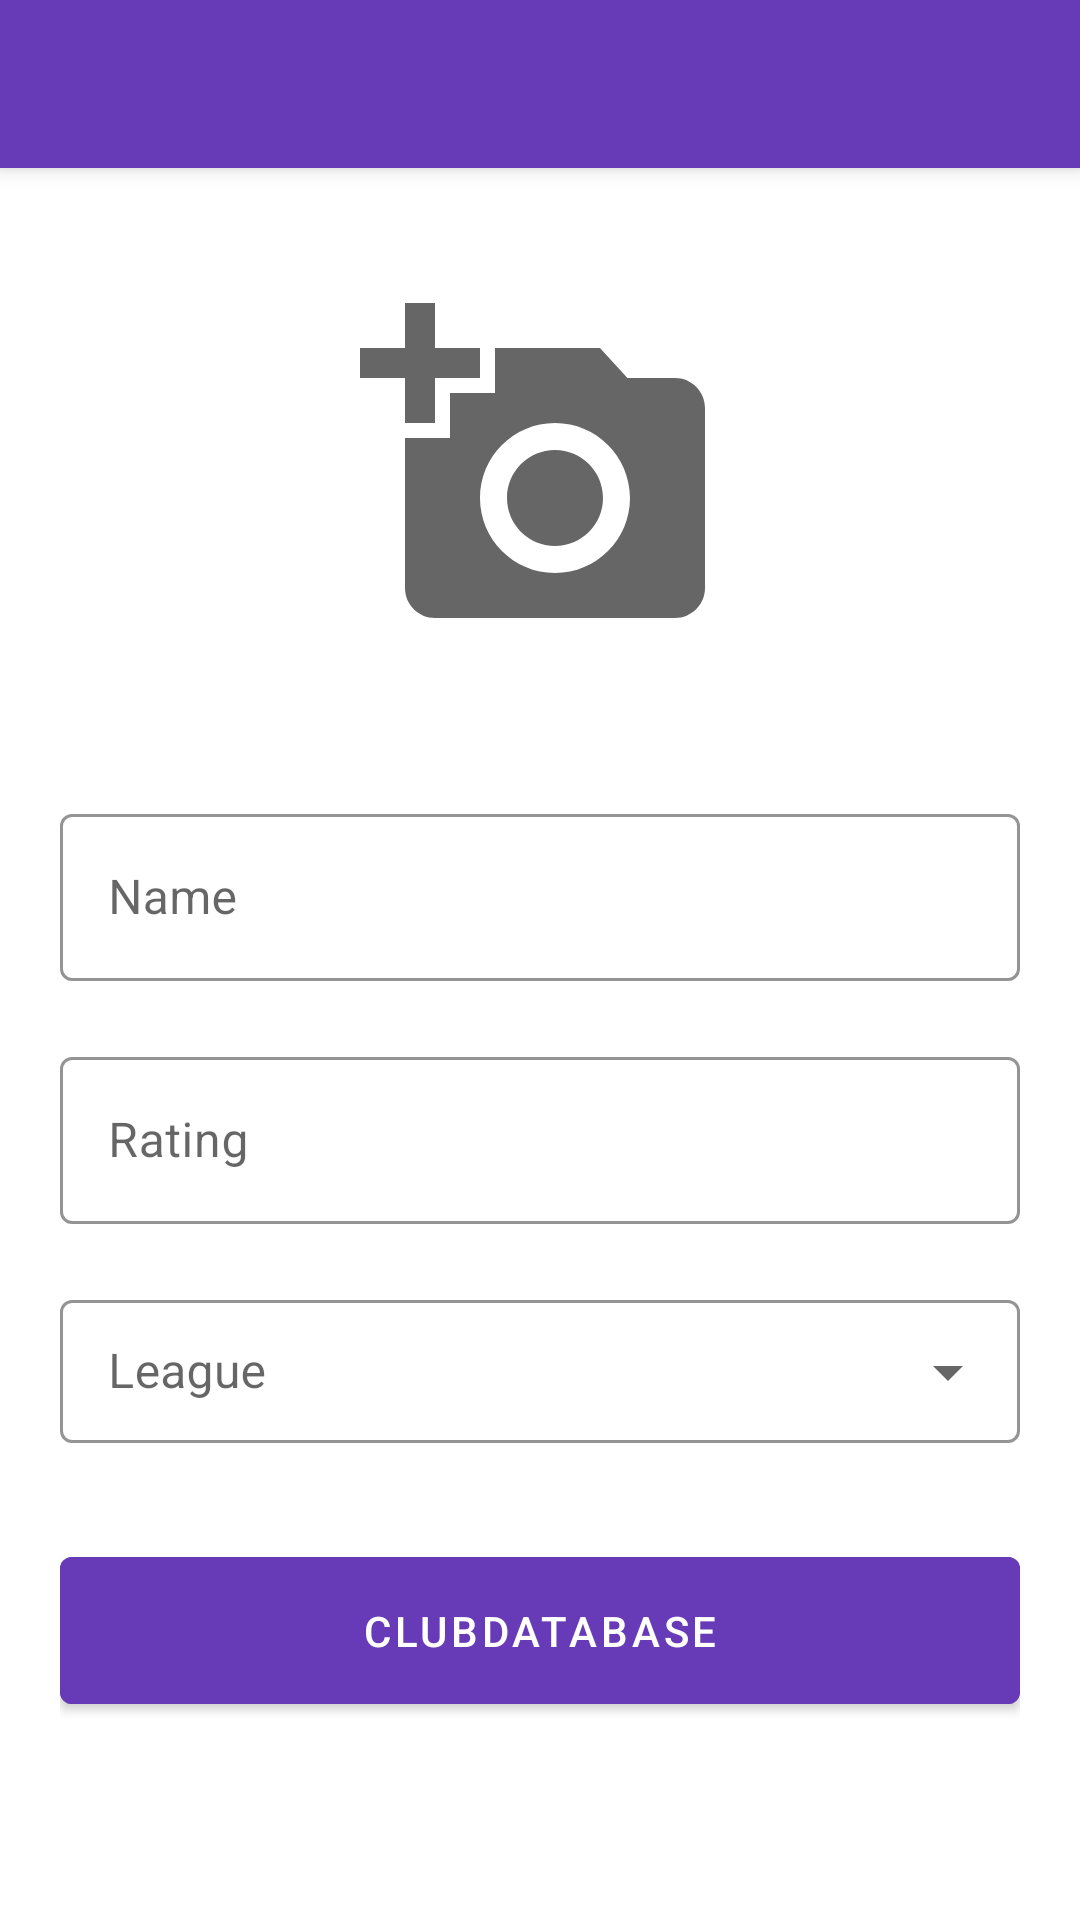

Locate icon controls on the screen. Image size 1080 × 1920, boxes as (x1, y1, x2, y2).
add photo: (360, 303, 705, 618)
